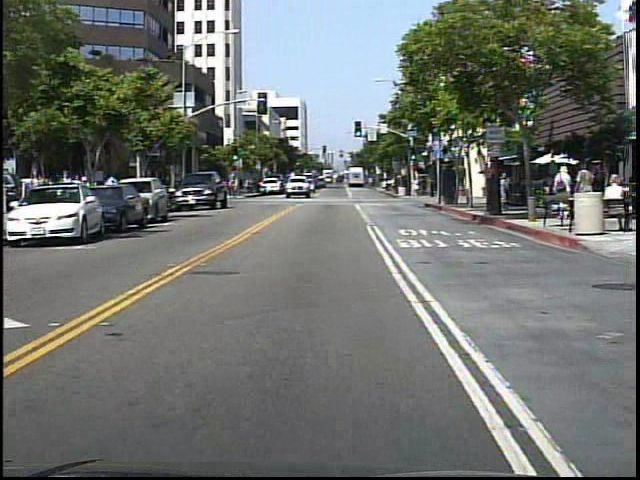person: (25, 163, 47, 222), (497, 170, 509, 214), (229, 173, 242, 200)
